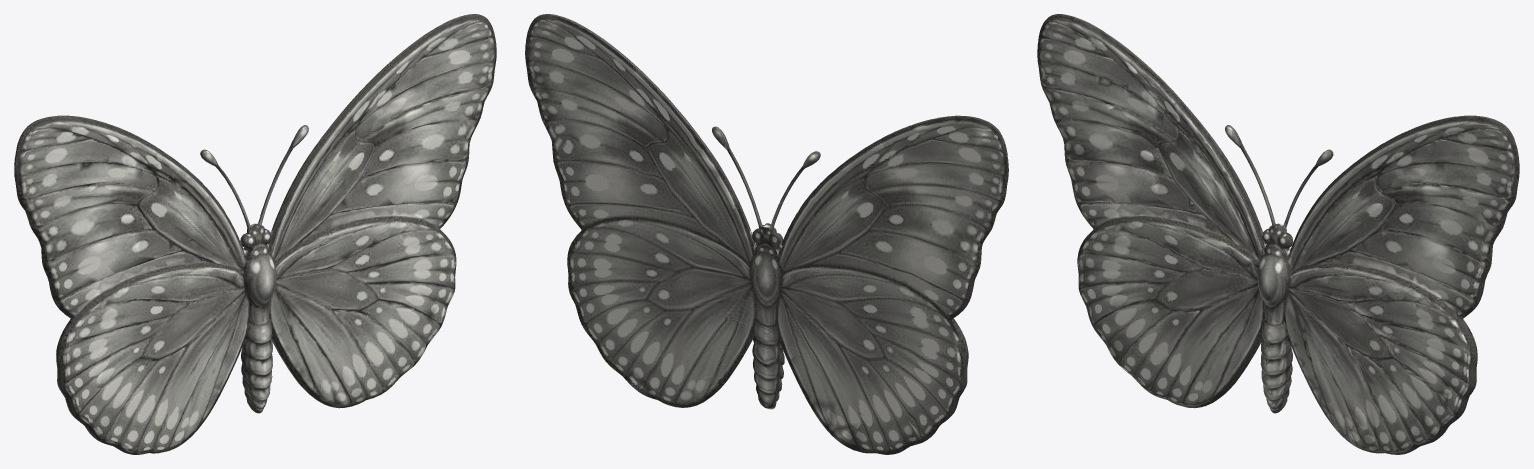
Rendered from butterfly-white.glb.
The picture shows the model from 3 angles, left to right: view 1: azimuth 30°, elevation 25°; view 2: azimuth 150°, elevation 25°; view 3: azimuth 330°, elevation 25°; orthographic projection.
Bounding box in the file's own units: 1.9 × 1.36 × 0.0968.
1 material, 1 textured.
